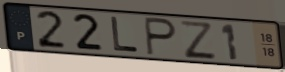1: (220, 23, 241, 63)
2: (33, 9, 70, 51), (71, 12, 106, 53)
L: (109, 15, 141, 55)
P: (143, 16, 179, 59)
Z: (177, 18, 219, 60)
